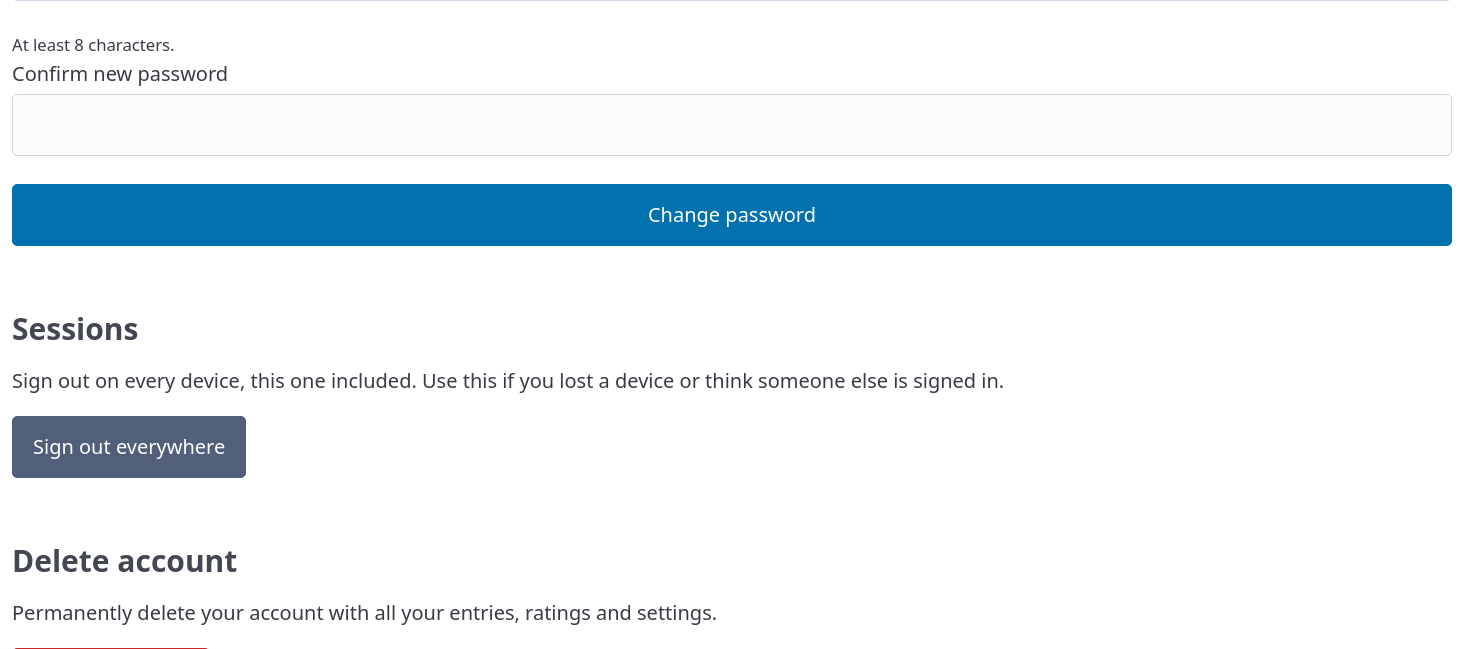
Test: AccountSettings › stays signed in and shows the error when signing out everywhere fails
(page scrolled)
Click the button "Sign out everywhere" at point(129, 447), box x1=12 y1=416 x2=246 y2=478
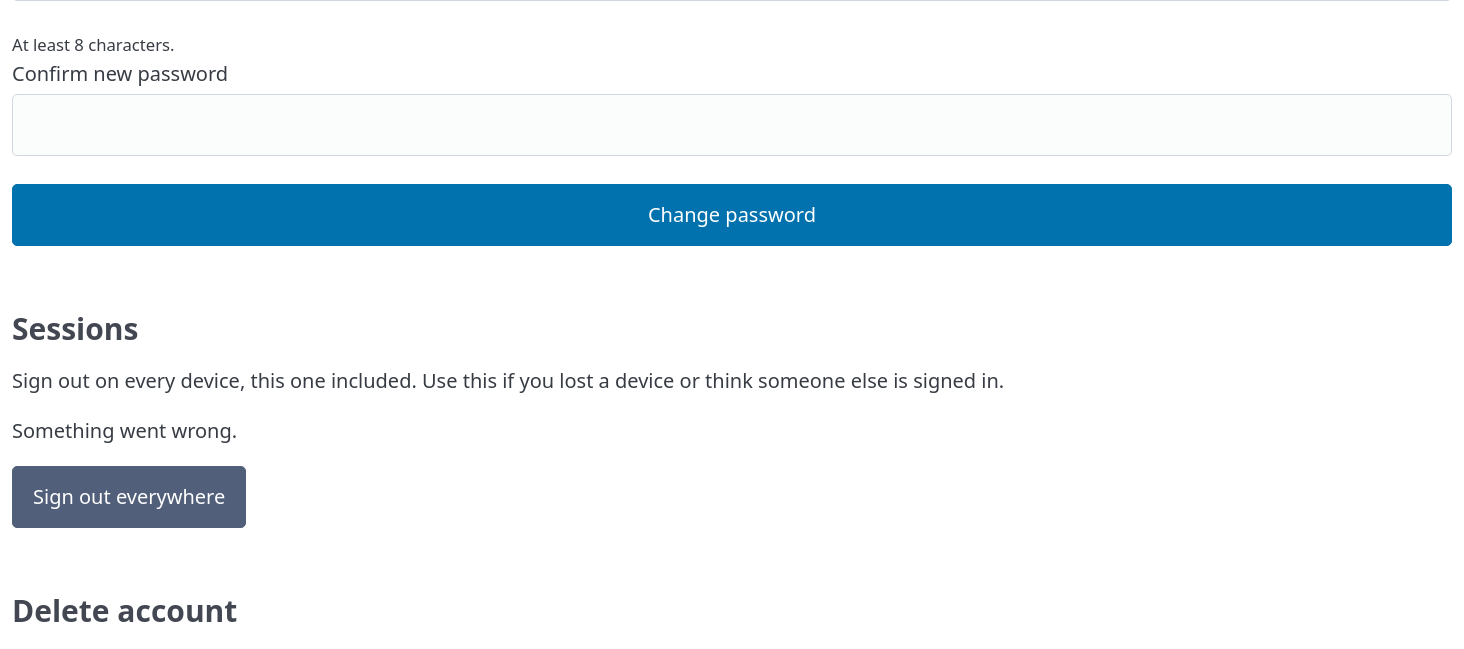
Check: the message reads "Something went wrong.", box x1=12 y1=417 x2=237 y2=444
